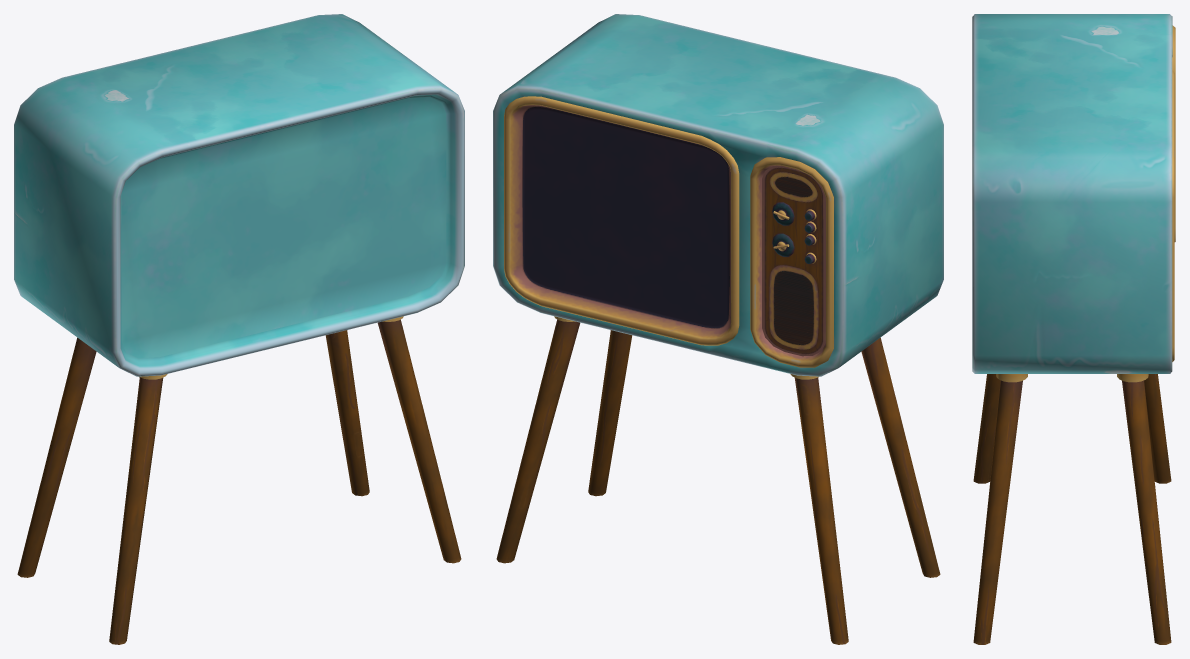
The model's file is retro_tv.gltf.
3 renders of one model, left to right at view 1: azimuth 30°, elevation 25°; view 2: azimuth 150°, elevation 25°; view 3: azimuth 270°, elevation 25°, orthographic.
Parts seen in each view (by area): view 1: Box, Legs; view 2: Box, Screen, Legs, Settings panel; view 3: Box, Legs, Screen, Settings panel, Stand.
Part boxes in pixels (left/top/right/bottom): Box: left=14, top=14, right=464, bottom=376; Legs: left=17, top=319, right=461, bottom=644; Box: left=493, top=14, right=943, bottom=376; Screen: left=504, top=96, right=739, bottom=345; Legs: left=496, top=319, right=940, bottom=644; Settings panel: left=750, top=157, right=833, bottom=367; Box: left=972, top=14, right=1172, bottom=373; Legs: left=973, top=374, right=1171, bottom=644; Screen: left=1172, top=70, right=1174, bottom=361; Settings panel: left=1172, top=25, right=1175, bottom=241; Stand: left=996, top=374, right=1148, bottom=382.
Size of the model in its own units: 0.7829 by 1.03 by 0.3964.
Materials: 1 (1 with a texture image).
